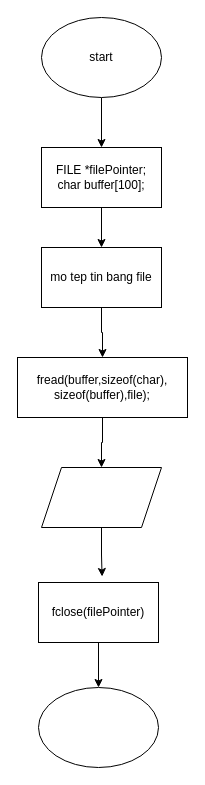
Image size: 205x785. Some labels were removed from this diagram. The shapes that lost their labels are listed below. From the top down, each one's box as (x1, y1, x2, y2) in pixels, then its label:
(40, 466, 162, 528): noi dung tep tin
(38, 686, 158, 768): end
